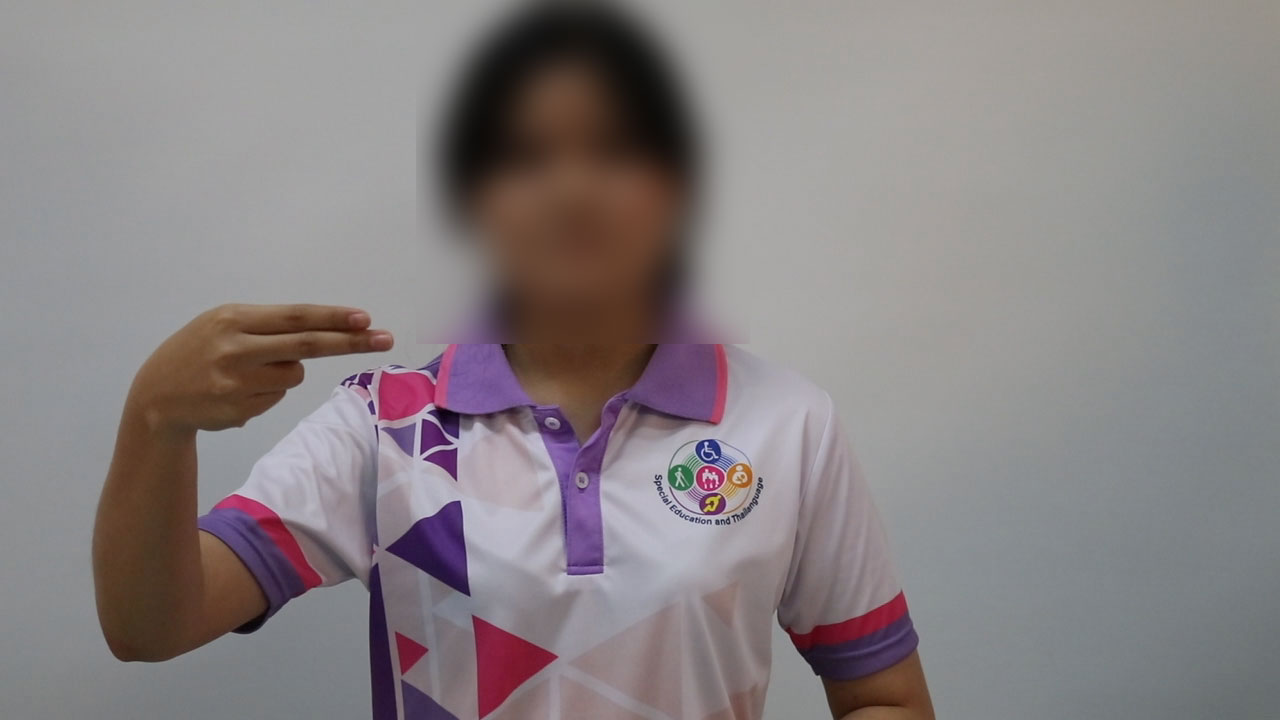hor: (107, 289, 407, 444)
